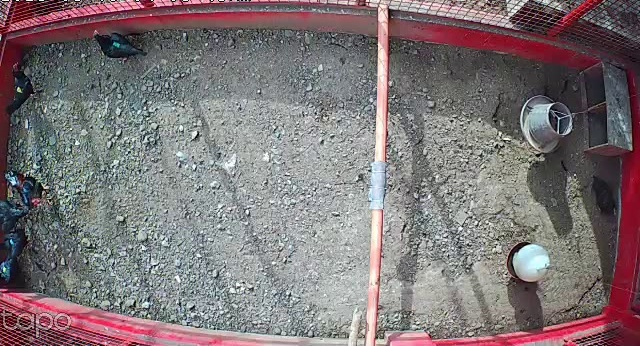Chicken: (90, 27, 149, 64), (4, 59, 42, 116), (588, 173, 619, 219), (0, 228, 29, 258), (0, 254, 22, 291)
Rooster: (3, 169, 53, 209)
Saddle_Color_Blue: (9, 238, 15, 246)
Saddle_Color_Yellow: (16, 85, 23, 93)
Saddle_Color_YellowGreen: (1, 266, 8, 275)
